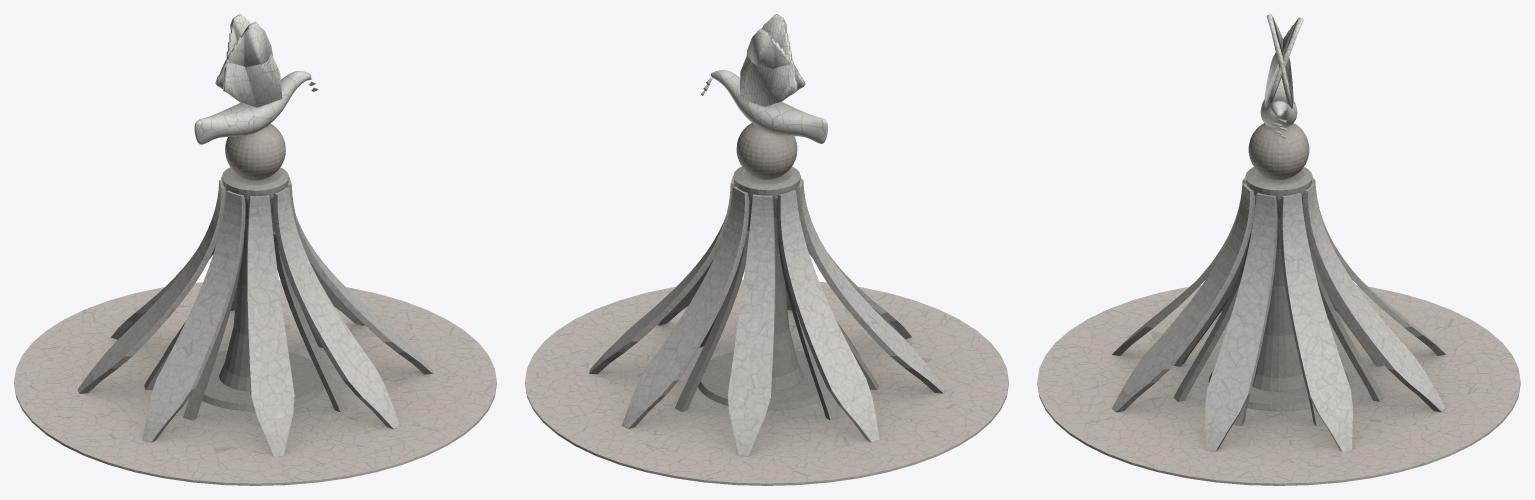
Rendered from lome_colombe.glb.
3 views of the same model, side by side, from view 1: azimuth 30°, elevation 25°; view 2: azimuth 150°, elevation 25°; view 3: azimuth 270°, elevation 25° (orthographic).
Parts seen in each view (by area): view 1: colombe_marbre, colombe_oiseau; view 2: colombe_marbre, colombe_oiseau; view 3: colombe_marbre, colombe_oiseau.
Part boxes in pixels (left/top/right/bottom): colombe_marbre: left=14, top=123, right=496, bottom=485; colombe_oiseau: left=194, top=14, right=318, bottom=144; colombe_marbre: left=525, top=123, right=1008, bottom=485; colombe_oiseau: left=701, top=14, right=827, bottom=143; colombe_marbre: left=1037, top=123, right=1520, bottom=485; colombe_oiseau: left=1260, top=14, right=1303, bottom=138.
Size of the model in its own units: 23 by 19.27 by 23.
2 materials, 2 textured.
